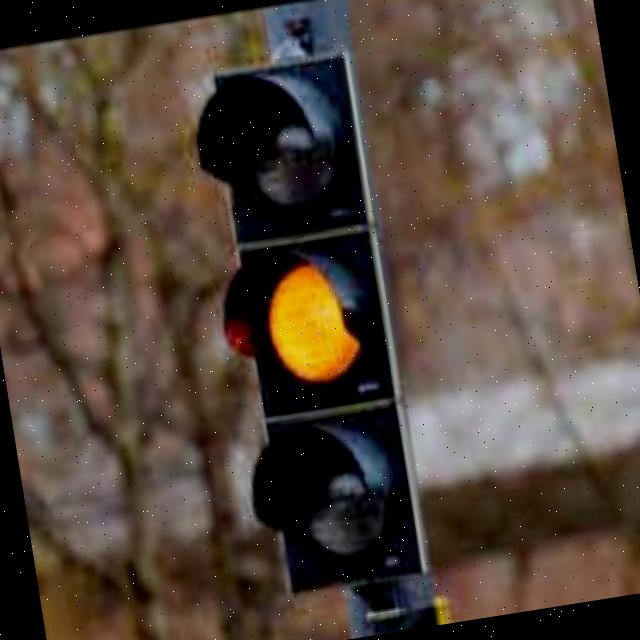Zolte swiatlo: (186, 58, 430, 600)
